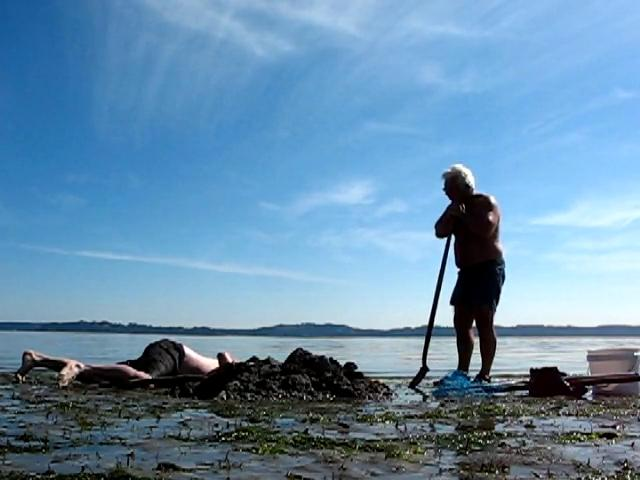victim: (429, 160, 515, 399)
